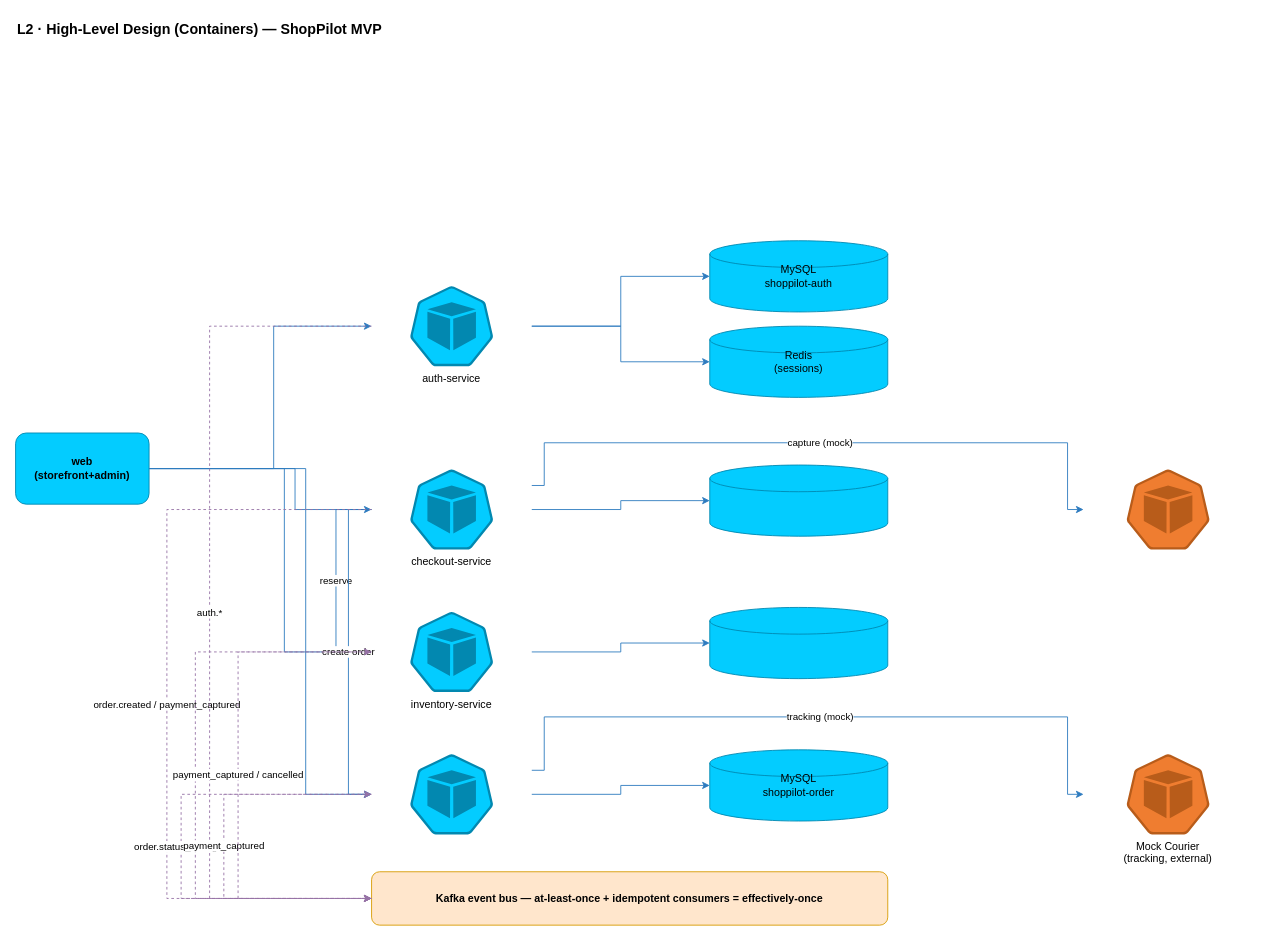
Some shapes in this 1268 by 941 pixel diagram are drawn without their labels. The centre of each missing label's shape, as x and y in pixels:
Mock PSP (payment, external): pixel 1168 509
MySQL shoppilot-checkout: pixel 798 500
MySQL shoppilot-inventory: pixel 798 643
order-service: pixel 451 793
